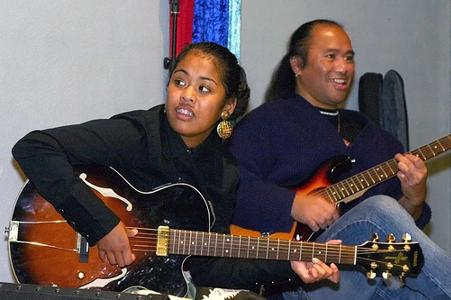person: (13, 41, 343, 298)
